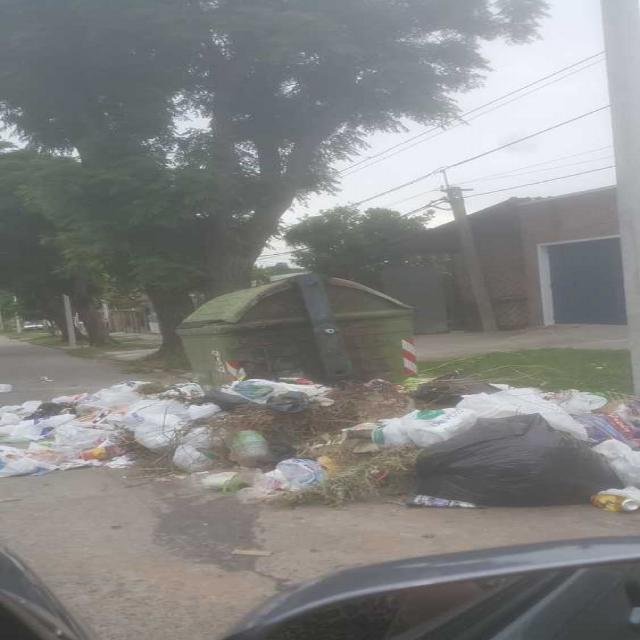garbage: (339, 378, 640, 514), (0, 378, 229, 482), (199, 454, 337, 502), (224, 363, 335, 419)
